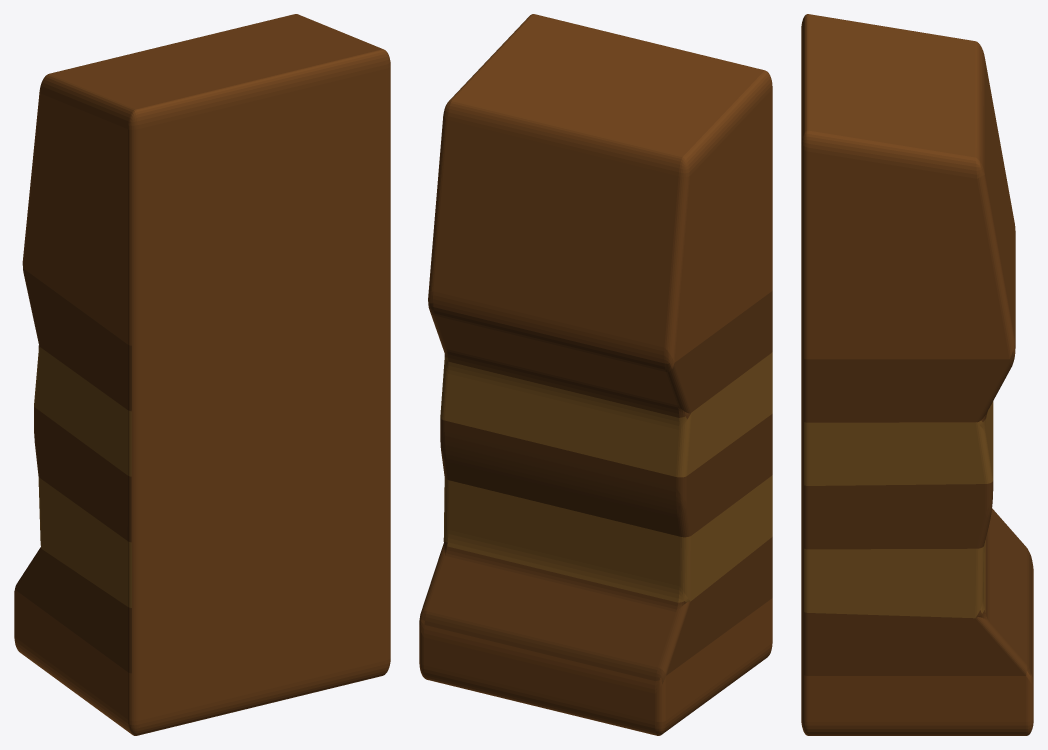
Rendered from SM_BaseboardButton.fbx.
3 renders of one model, left to right at view 1: azimuth 30°, elevation 25°; view 2: azimuth 150°, elevation 25°; view 3: azimuth 270°, elevation 25°, orthographic. The views are drawn at different scales.
Visible parts, largest first — view 1: SM_Botao; view 2: SM_Botao; view 3: SM_Botao.
Boxes of the visible parts, x1,y1,x2,y2 form: SM_Botao: (14, 14, 390, 735); SM_Botao: (419, 14, 772, 735); SM_Botao: (801, 14, 1033, 735).
Bounding box in the file's own units: 16.45 × 37.34 × 13.
